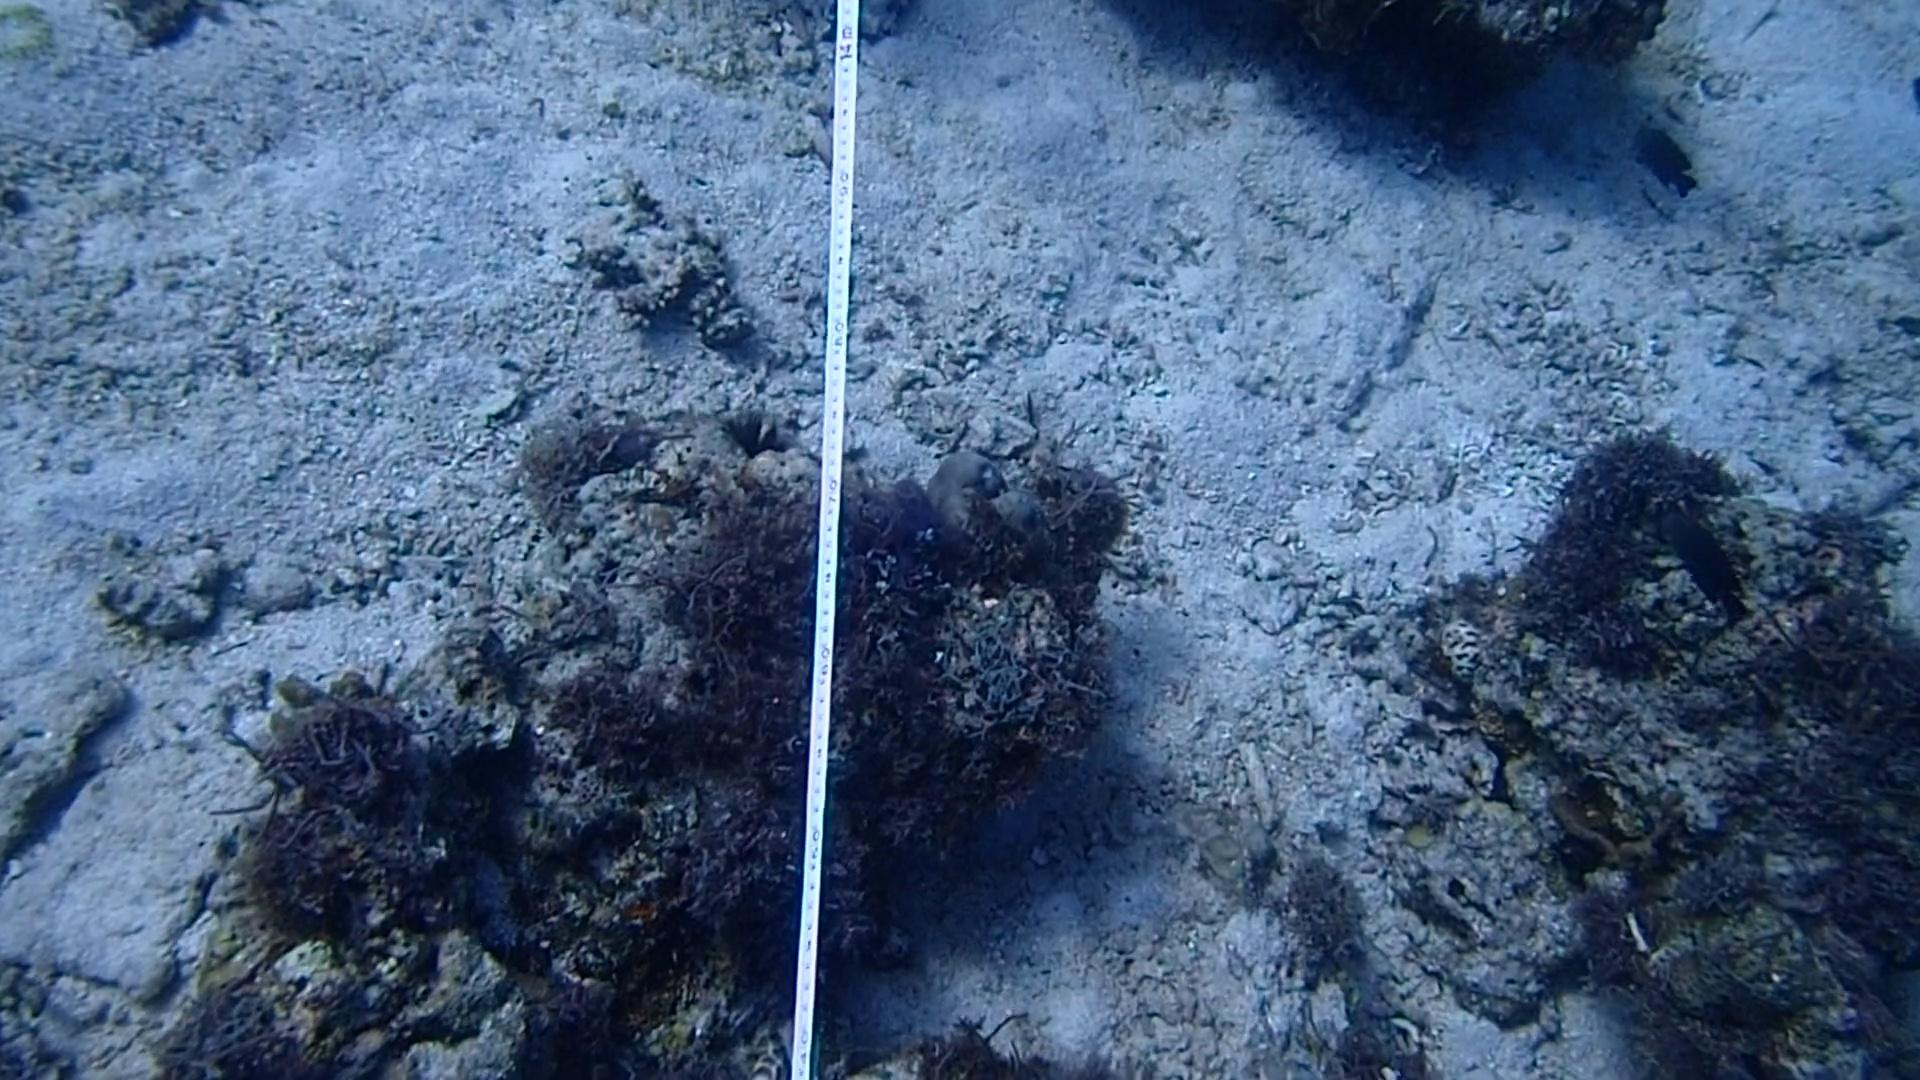Dark Fish: (1651, 505, 1754, 633), (1617, 111, 1702, 200)
